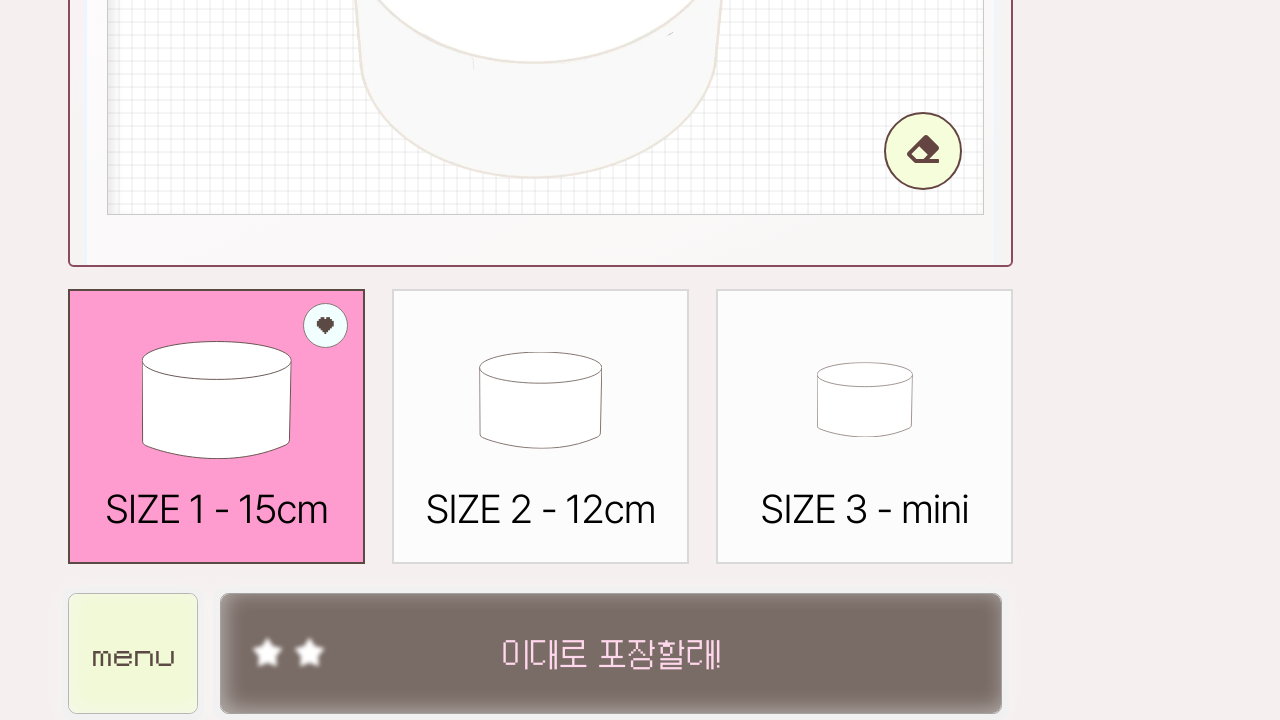
Test: ExperienceRoot › 결과 수정 화면에서 포장하기를 누르면 소장 및 공유 단계로 간다
The width and height of the screenshot is (1280, 720).
(page scrolled)
Click the button "이대로 포장할래!" at (611, 654), box [213,587,1009,719]
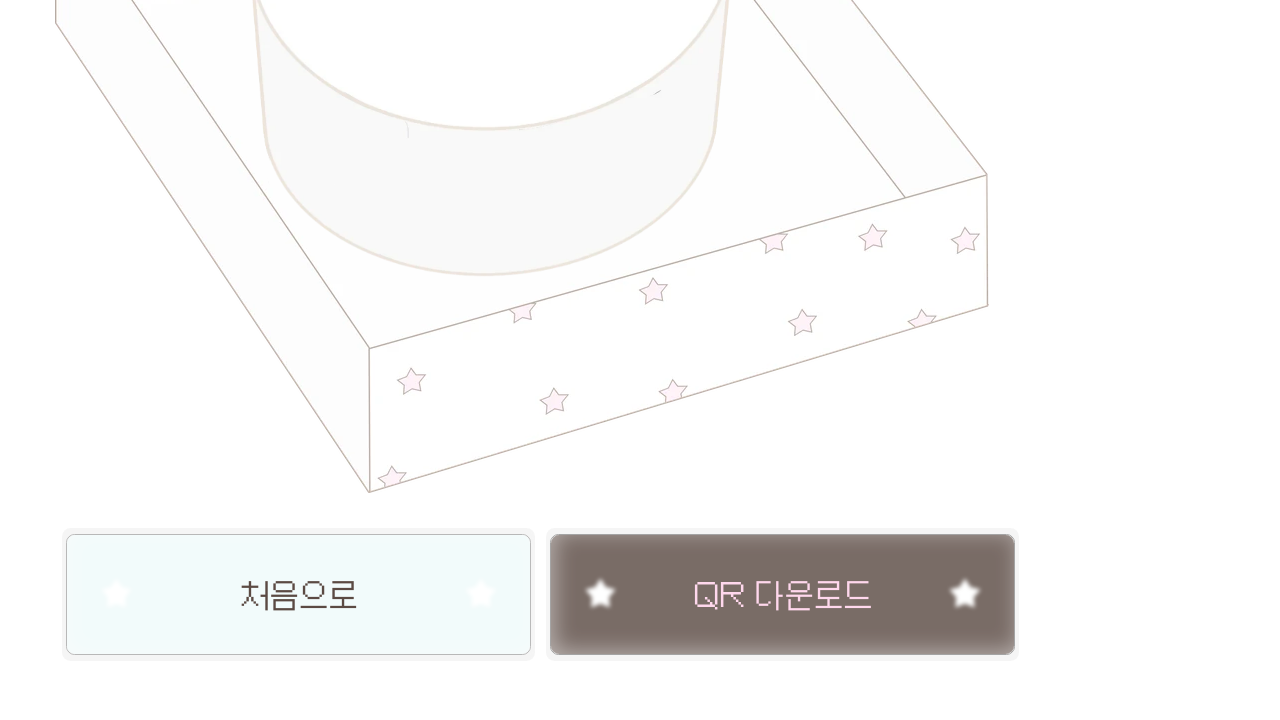
Expected: the button "QR 다운로드" is shown, [546,528,1019,661]
